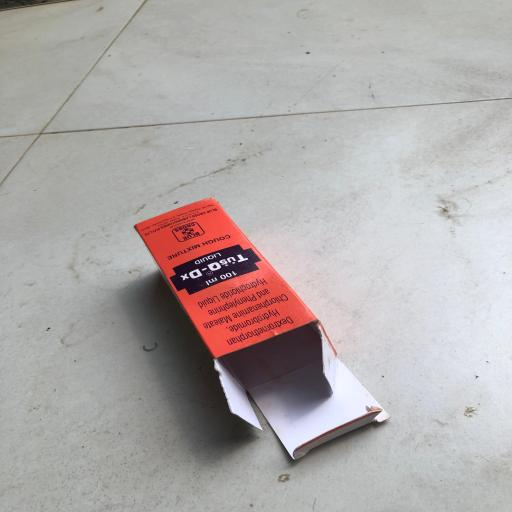waste: (107, 184, 414, 464)
